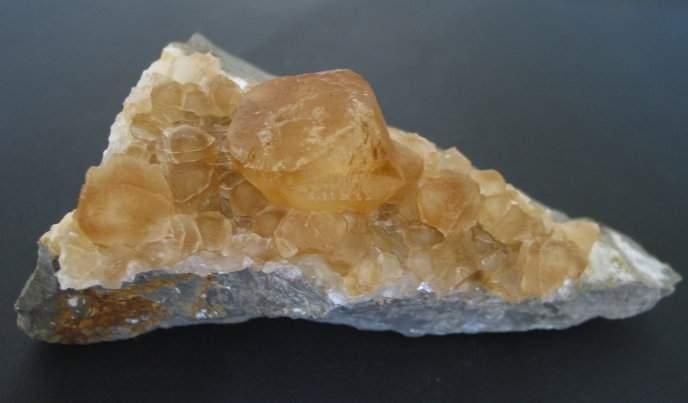calcite: (43, 44, 602, 301)
